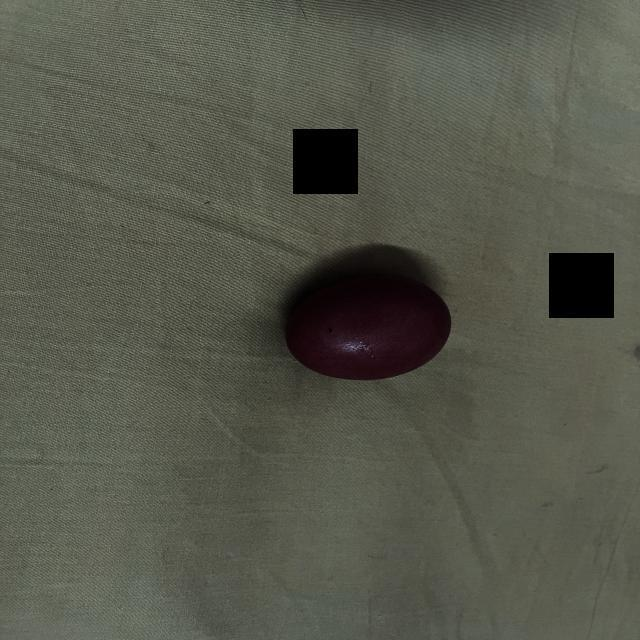egg: (279, 268, 461, 391)
